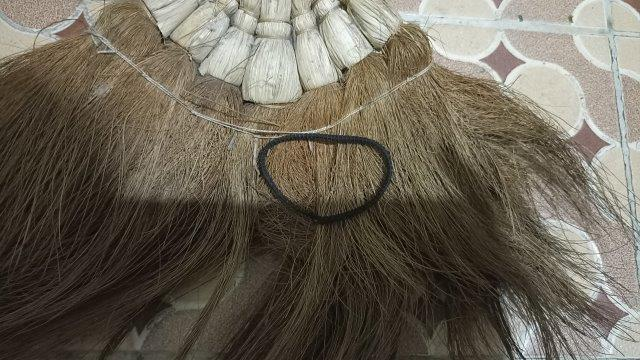karet: (258, 133, 392, 223)
